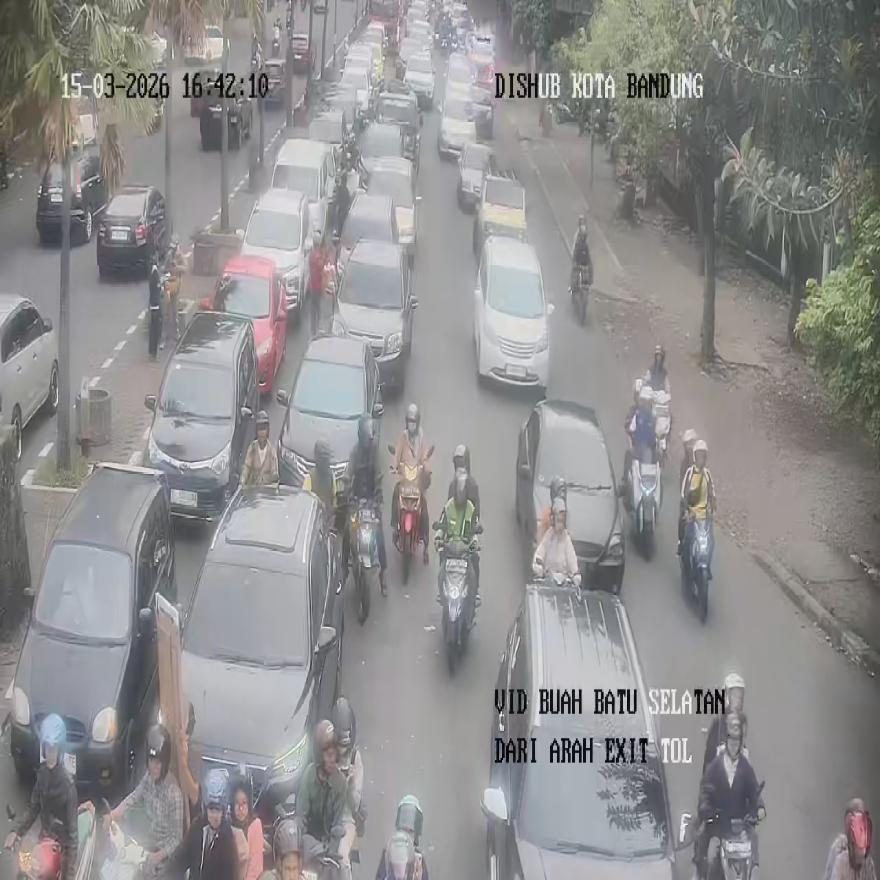Motor: (6, 461, 178, 805), (484, 583, 682, 879), (177, 483, 343, 831), (144, 310, 260, 522), (516, 398, 625, 590), (275, 332, 384, 507), (325, 240, 418, 392), (472, 233, 554, 392), (0, 293, 58, 457), (36, 152, 108, 243), (96, 185, 166, 276)
Truk: (692, 777, 764, 880), (435, 524, 481, 674), (388, 442, 433, 582), (348, 498, 386, 624), (3, 803, 64, 879), (375, 794, 428, 879), (680, 510, 715, 622), (627, 456, 660, 555), (570, 265, 591, 325)
